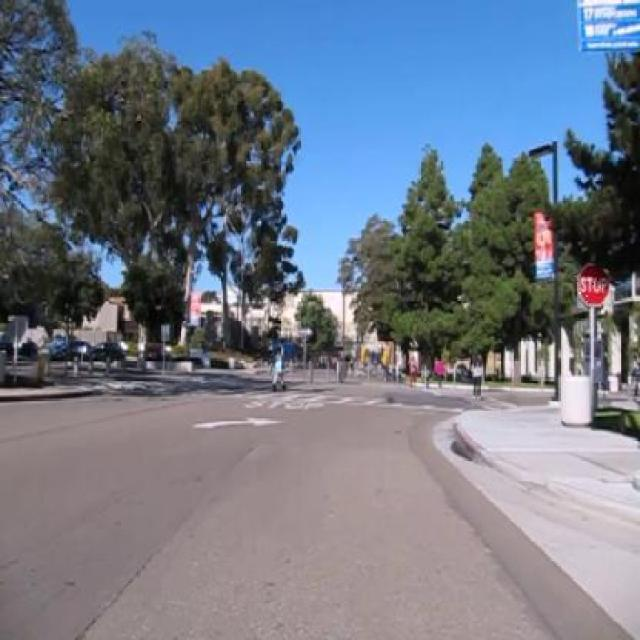stop: (577, 262, 611, 306)
